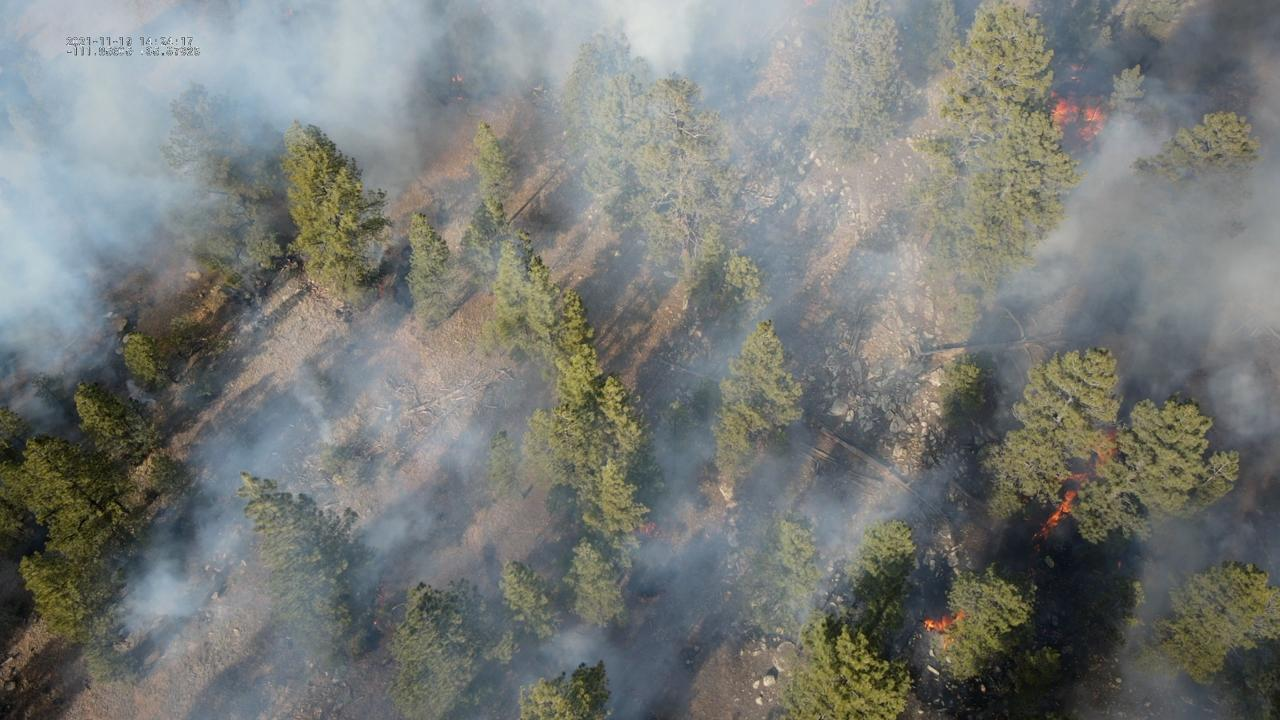fire: (1034, 421, 1118, 545), (1047, 91, 1105, 135), (922, 609, 957, 634), (637, 521, 658, 538), (378, 280, 386, 299), (1068, 63, 1080, 73), (449, 74, 459, 85), (455, 96, 465, 103), (373, 619, 378, 627), (1117, 561, 1123, 567)
smoke: (0, 0, 1280, 720), (1118, 504, 1280, 720)
